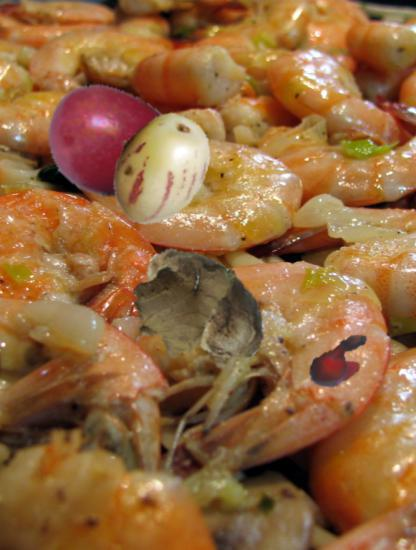Banana: (304, 325, 377, 398)
Cherry: (47, 71, 186, 210)
Ginger: (136, 232, 278, 374), (131, 247, 246, 362)
Pepino: (104, 111, 220, 227)
